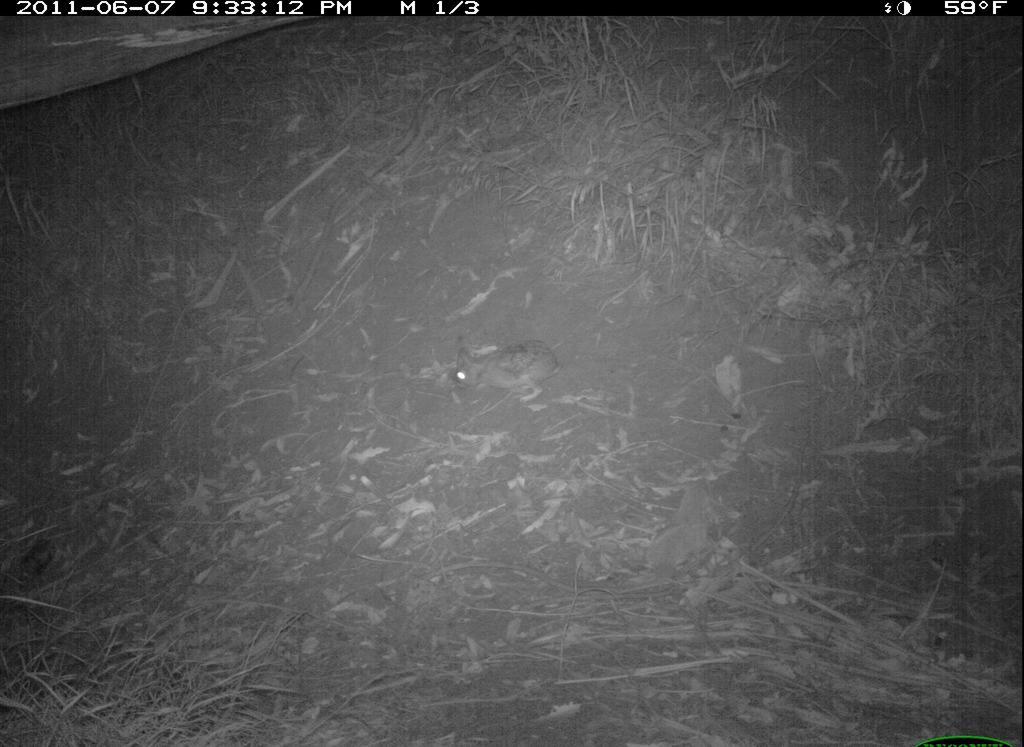rabbit: (449, 338, 568, 404)
